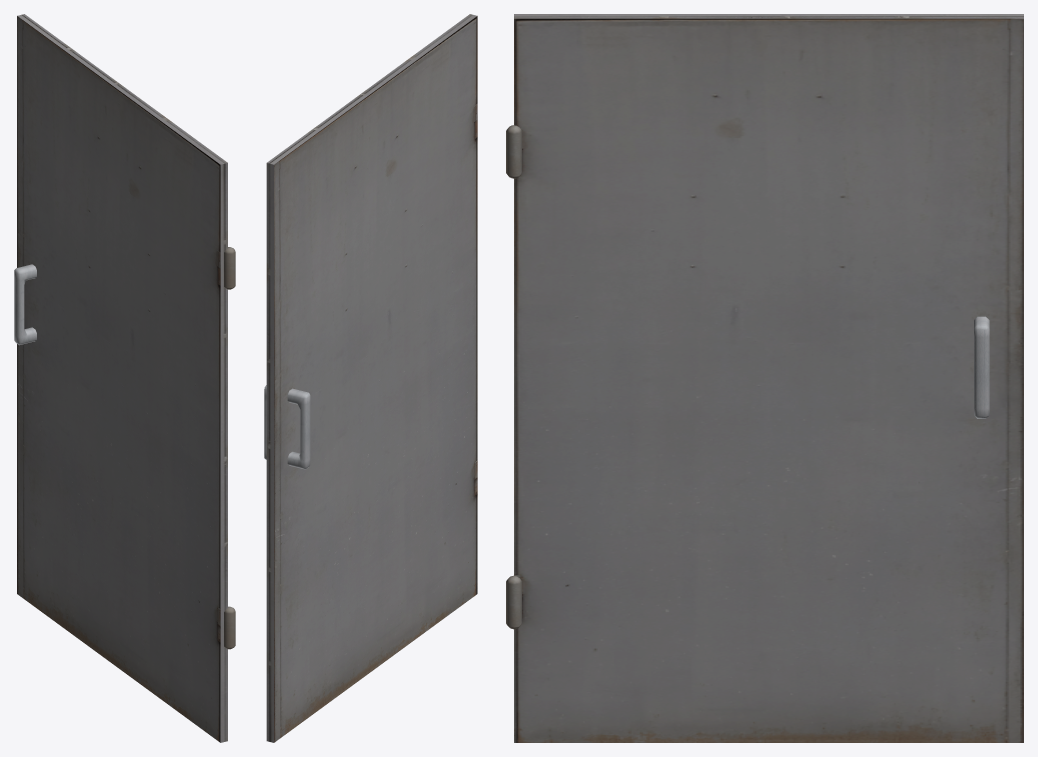
File: WareHouse02Door.fbx
The picture shows the model from 3 angles, left to right: view 1: azimuth 30°, elevation 25°; view 2: azimuth 150°, elevation 25°; view 3: azimuth 270°, elevation 25°; orthographic projection. The views are drawn at different scales.
Visible parts, largest first — view 1: pSphere3; view 2: pSphere3; view 3: pSphere3.
Part boxes in pixels (bbox=[...]): pSphere3: bbox=[14, 14, 235, 742]; pSphere3: bbox=[264, 14, 477, 742]; pSphere3: bbox=[506, 14, 1023, 742].
Size of the model in its own units: 0.1829 by 2.37 by 1.53.
